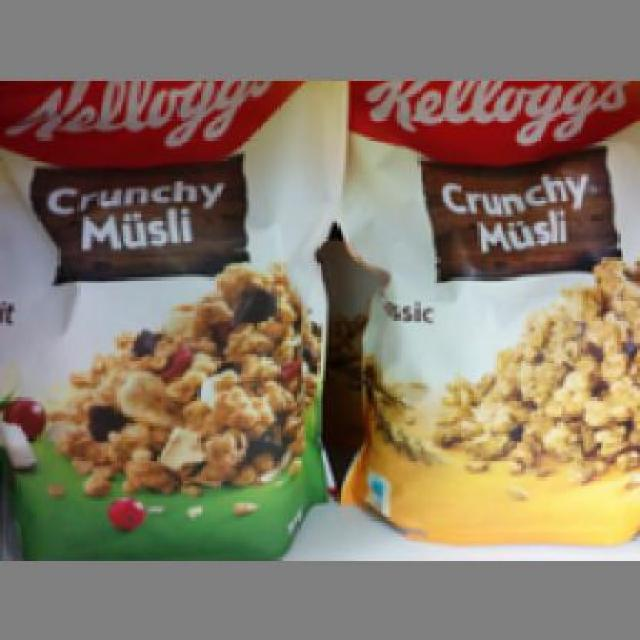Cereal: (0, 77, 349, 557), (346, 77, 637, 543)
